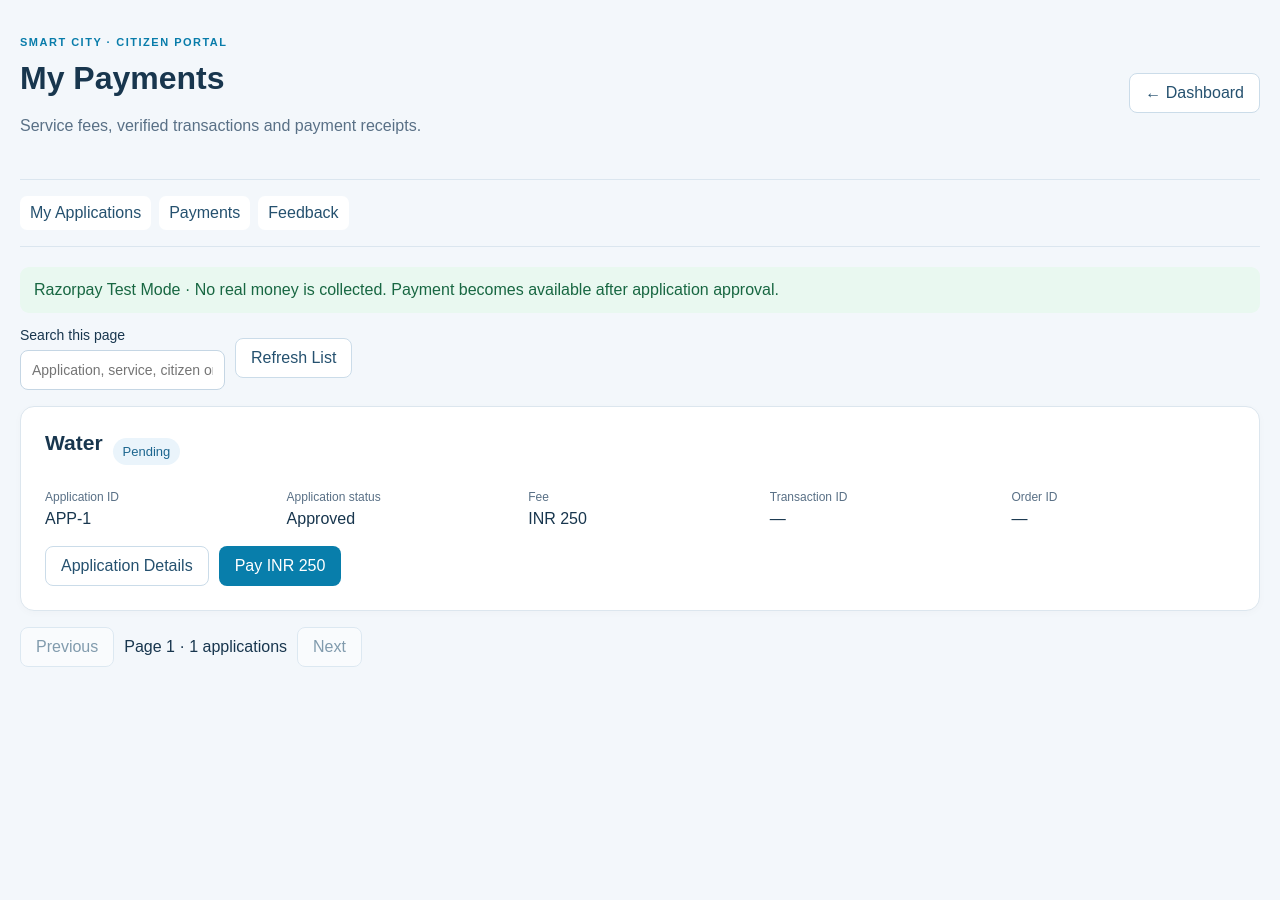
Test: checkout uses server order and verifies the gateway response
Click the button "Pay INR 250" at (280, 566), box [219, 546, 341, 586]
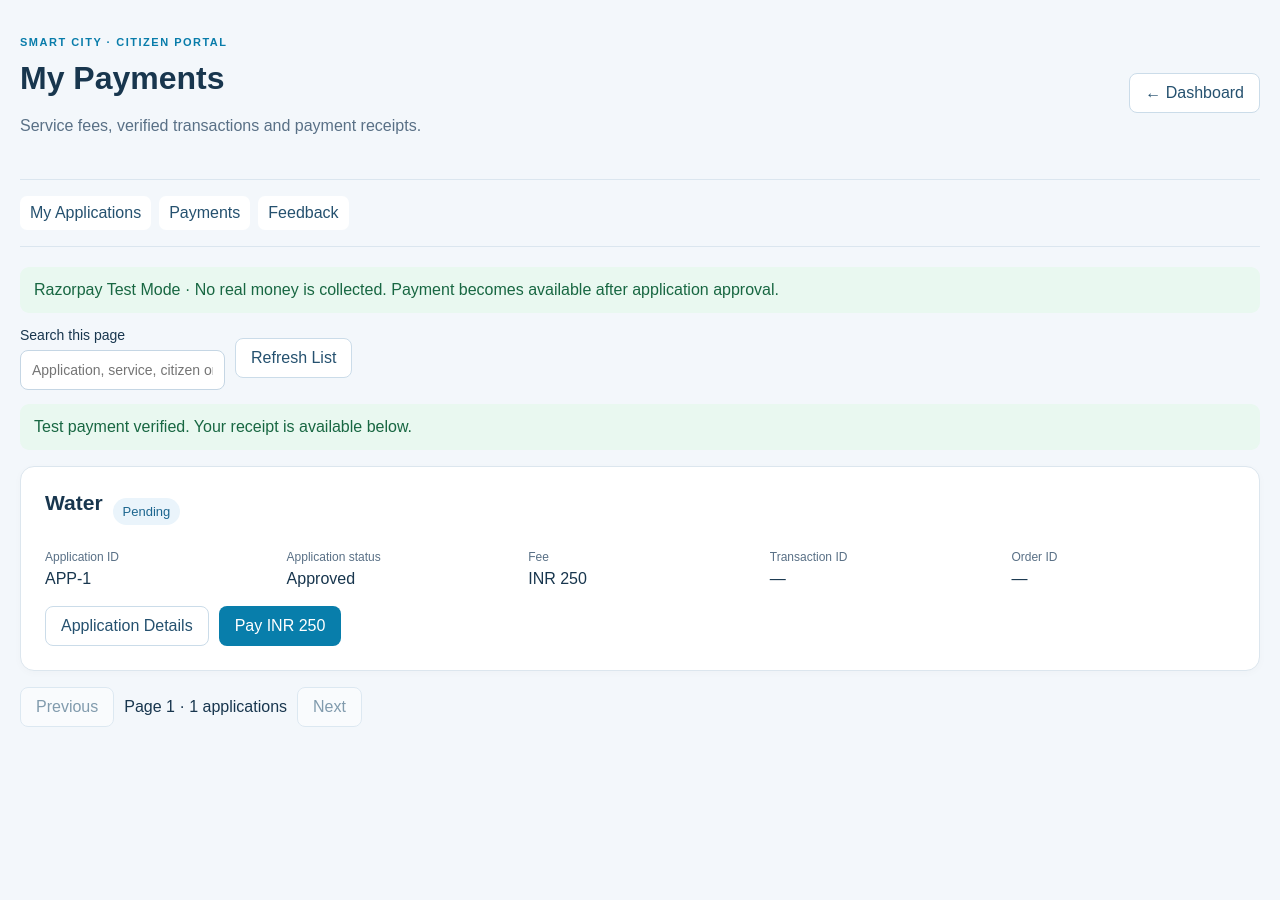
Check: the text "Test payment verified. Your receipt is available below." is shown, box [20, 404, 1260, 450]
